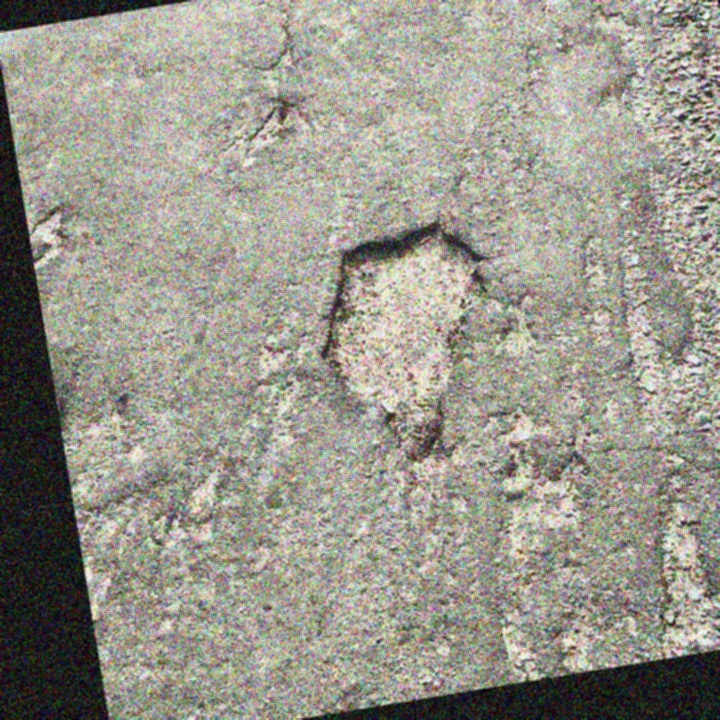pothole: (298, 209, 522, 470), (25, 203, 77, 271), (242, 98, 297, 151)
